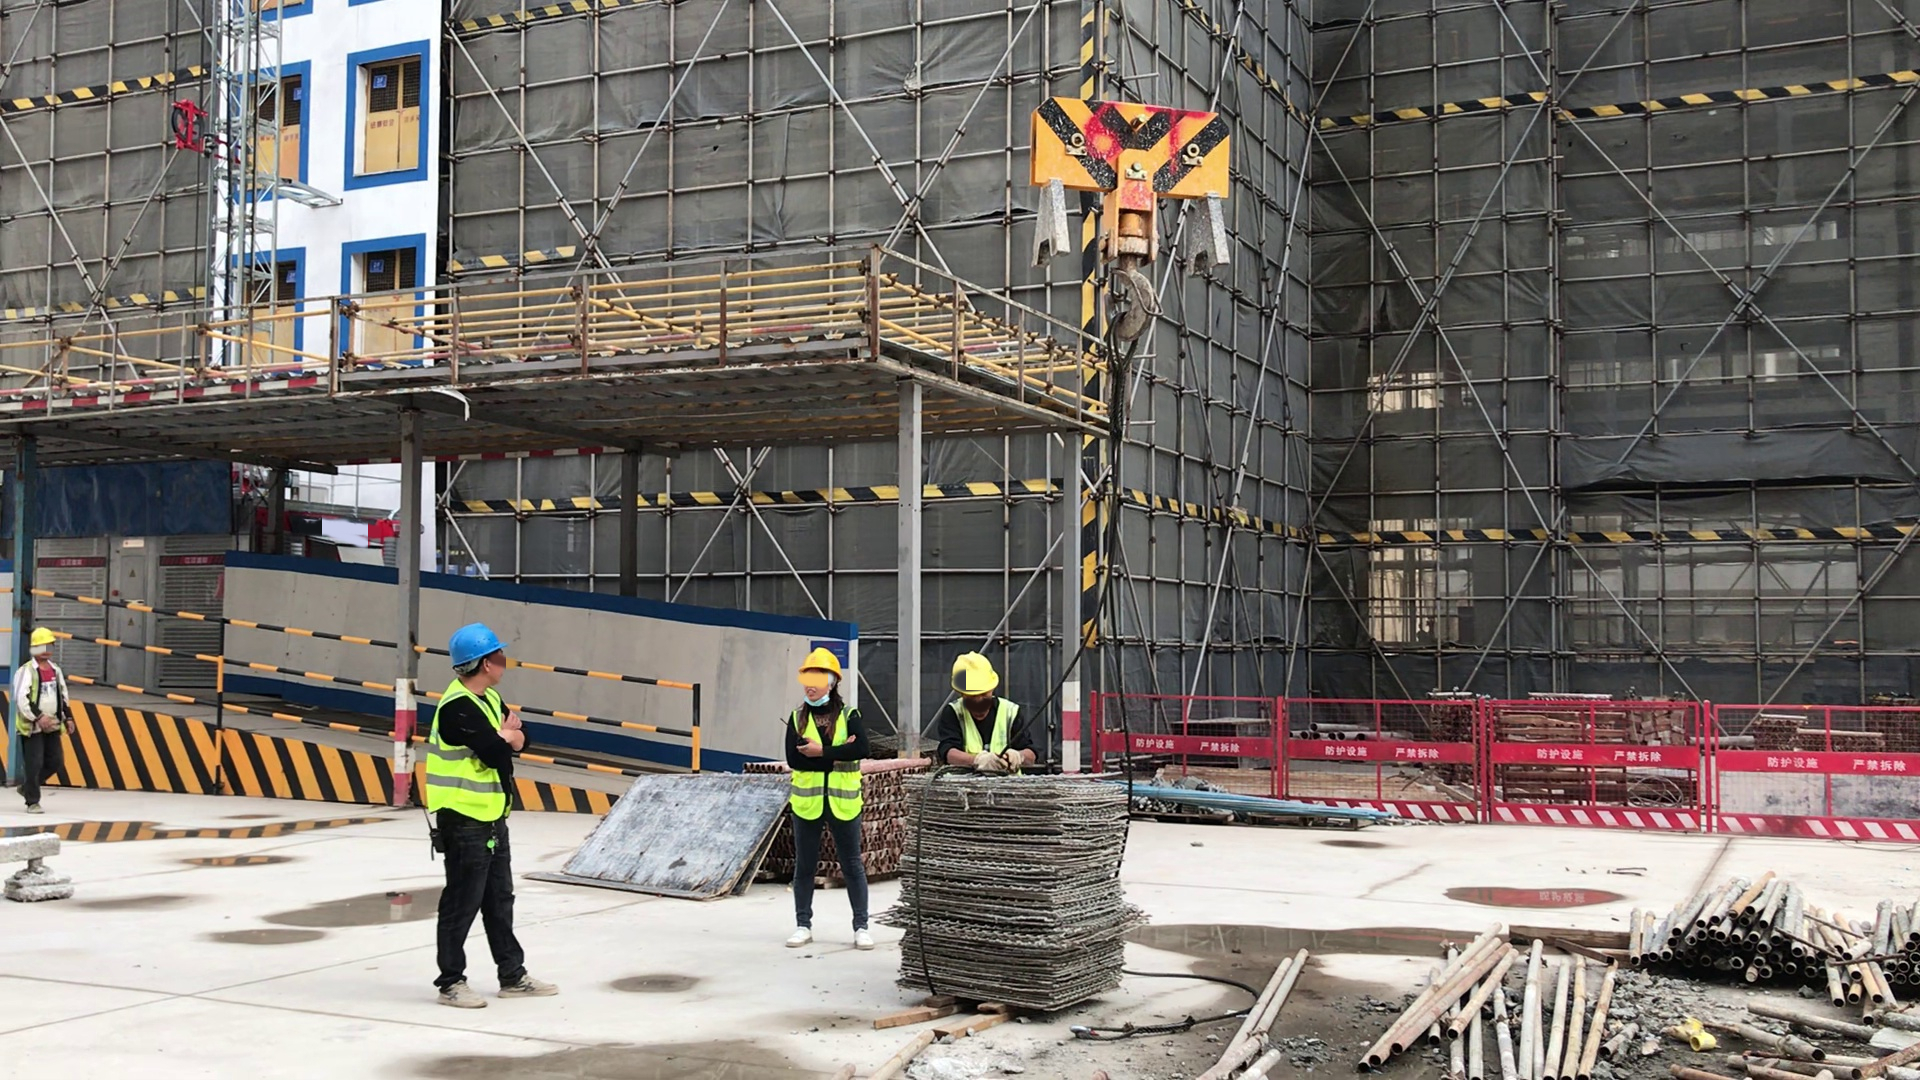helmet: (447, 623, 507, 675), (949, 652, 1003, 695), (797, 648, 845, 686), (21, 626, 54, 645)
person: (410, 622, 564, 1013), (778, 641, 881, 957), (936, 648, 1045, 778), (12, 626, 71, 816)
vest: (424, 677, 515, 823), (791, 703, 865, 822), (945, 696, 1021, 779), (14, 659, 42, 738)
